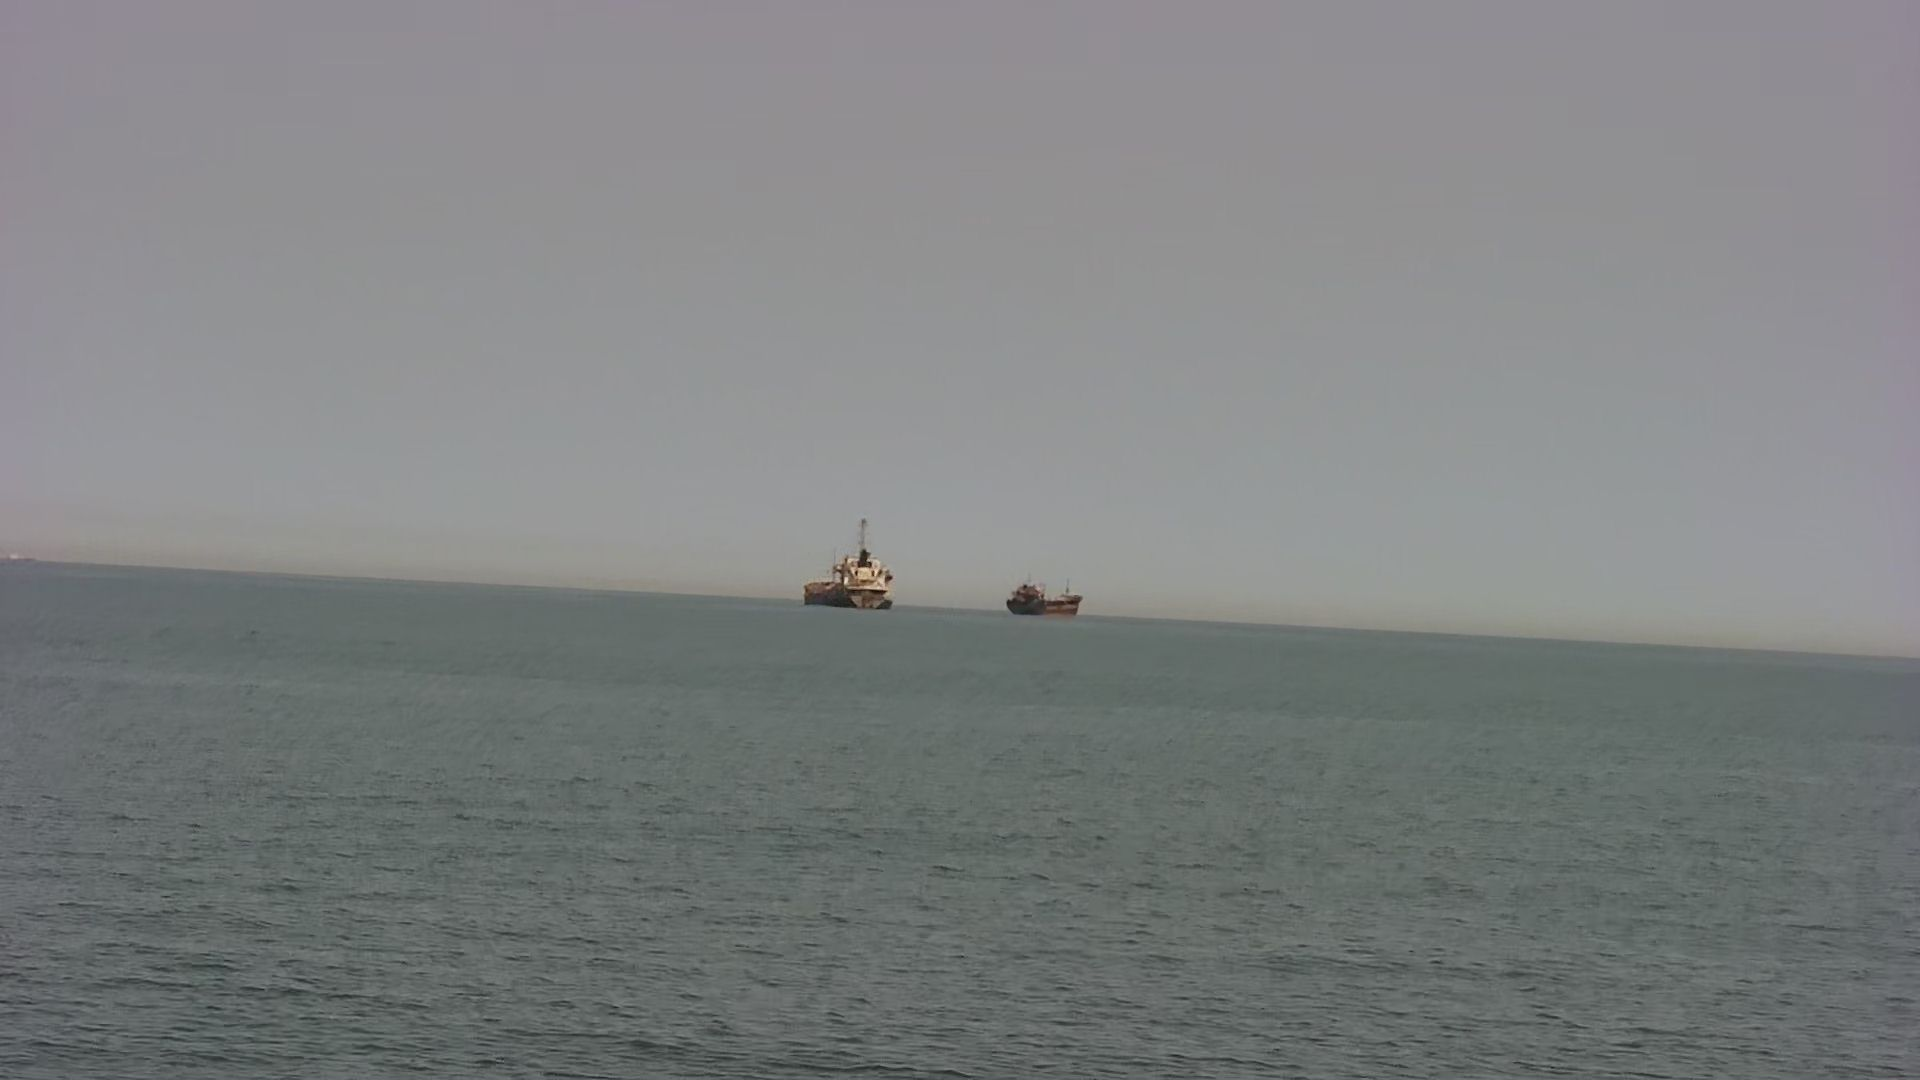ship: (799, 520, 895, 612), (1004, 575, 1081, 620)
